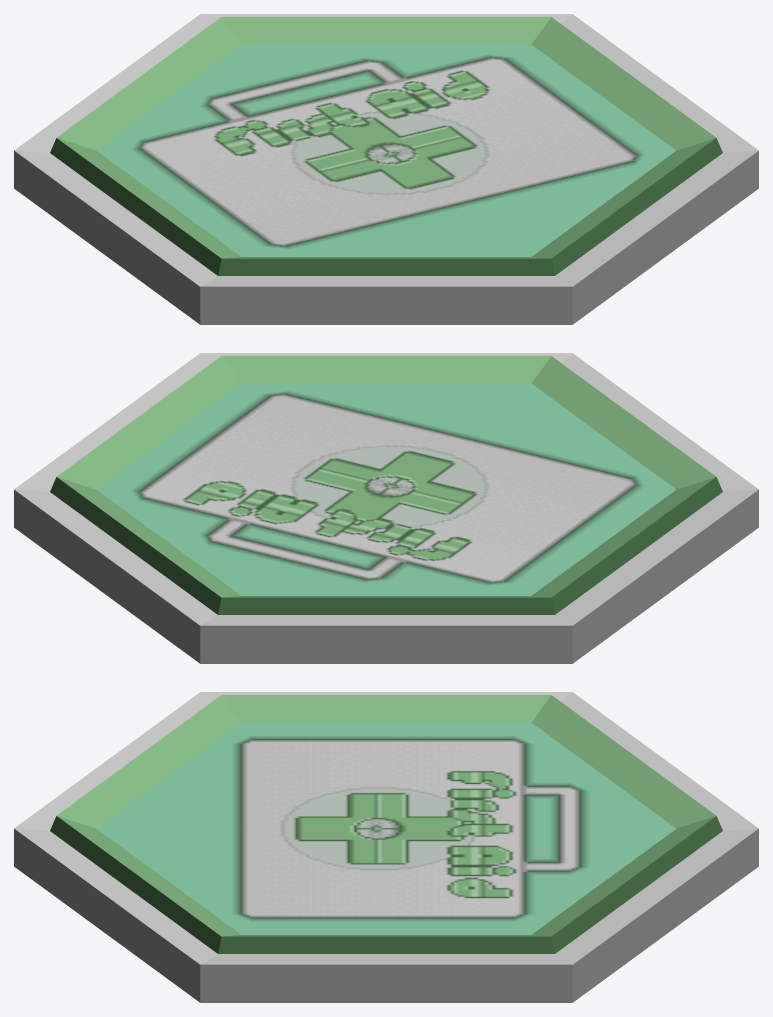
File: First Aid Coin.fbx
3 renders of one model, top to bottom at view 1: azimuth 30°, elevation 25°; view 2: azimuth 150°, elevation 25°; view 3: azimuth 270°, elevation 25°, orthographic.
Visible parts, largest first — view 1: (Green) First Aid Coin; view 2: (Green) First Aid Coin; view 3: (Green) First Aid Coin.
Part boxes in pixels (bbox=[...]): (Green) First Aid Coin: bbox=[14, 14, 758, 324]; (Green) First Aid Coin: bbox=[14, 353, 758, 663]; (Green) First Aid Coin: bbox=[14, 692, 758, 1002].
Size of the model in its own units: 173 by 18.78 by 200.
